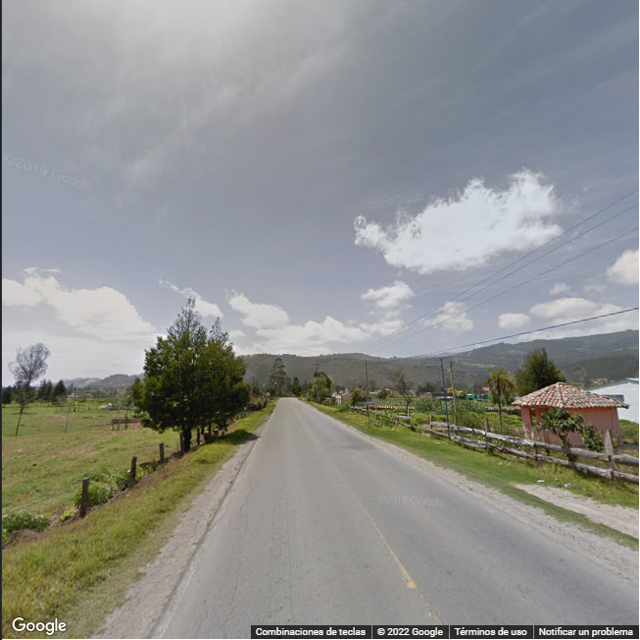D00: (281, 466, 302, 622), (228, 499, 247, 616)
